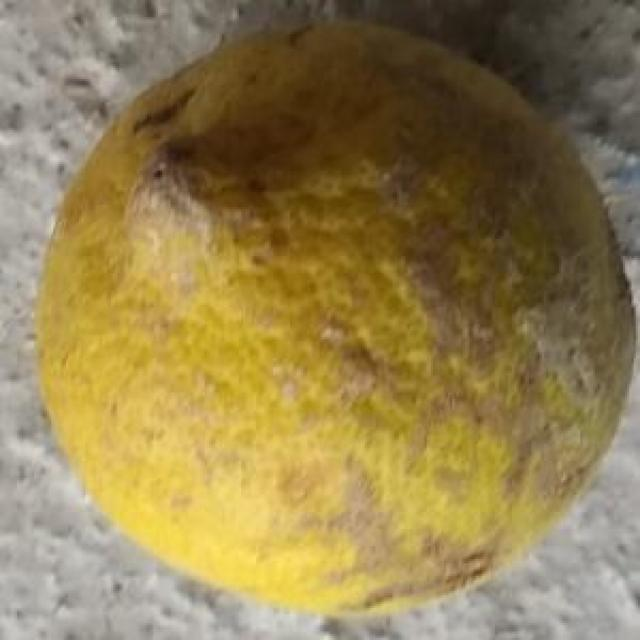lemon: (33, 21, 640, 629)
